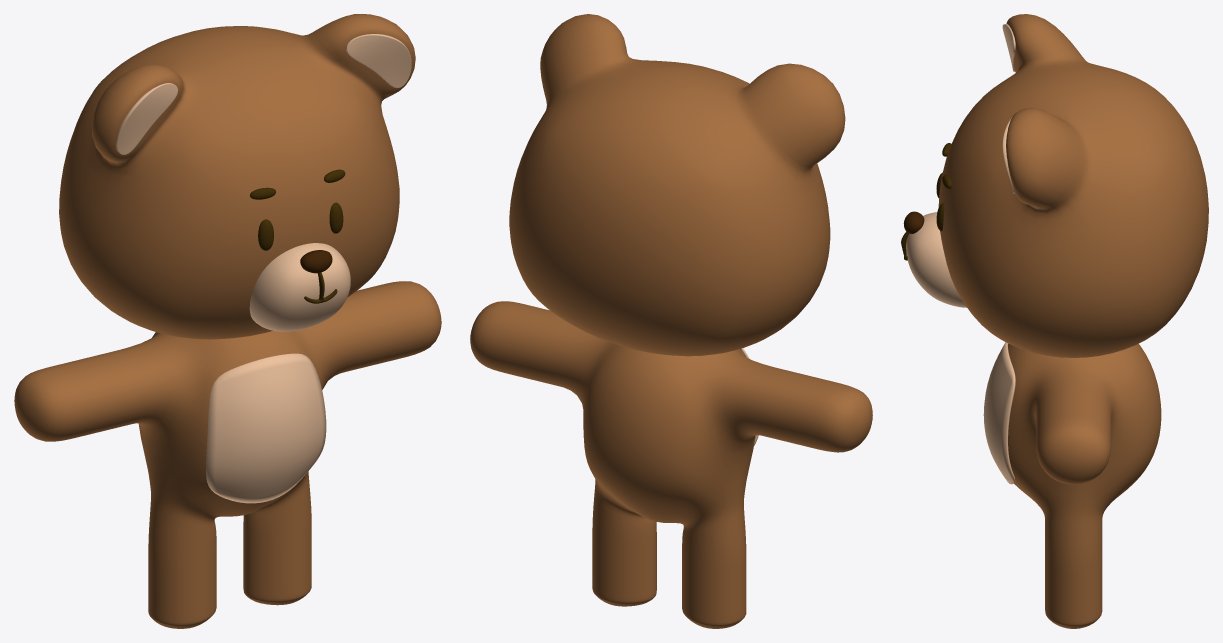
File: osito9.fbx
3 views of the same model, side by side, from view 1: azimuth 30°, elevation 25°; view 2: azimuth 150°, elevation 25°; view 3: azimuth 270°, elevation 25° (orthographic). The views are drawn at different scales.
Parts seen in each view (by area): view 1: Cube, Cube.008, Cube.002, Cube.001, Cube.003; view 2: Cube, Cube.008; view 3: Cube, Cube.008, Cube.002, Cube.001.
Part boxes in pixels (x1=…): Cube: x1=59, y1=14, x2=415, y2=339; Cube.008: x1=14, y1=281, x2=441, y2=628; Cube.002: x1=249, y1=243, x2=350, y2=331; Cube.001: x1=116, y1=34, x2=411, y2=154; Cube.003: x1=300, y1=250, x2=332, y2=273; Cube: x1=509, y1=14, x2=845, y2=356; Cube.008: x1=470, y1=301, x2=872, y2=628; Cube: x1=938, y1=14, x2=1208, y2=357; Cube.008: x1=983, y1=342, x2=1161, y2=628; Cube.002: x1=906, y1=212, x2=966, y2=307; Cube.001: x1=1002, y1=24, x2=1015, y2=193.
Bounding box in the file's own units: 260 × 353 × 184.
